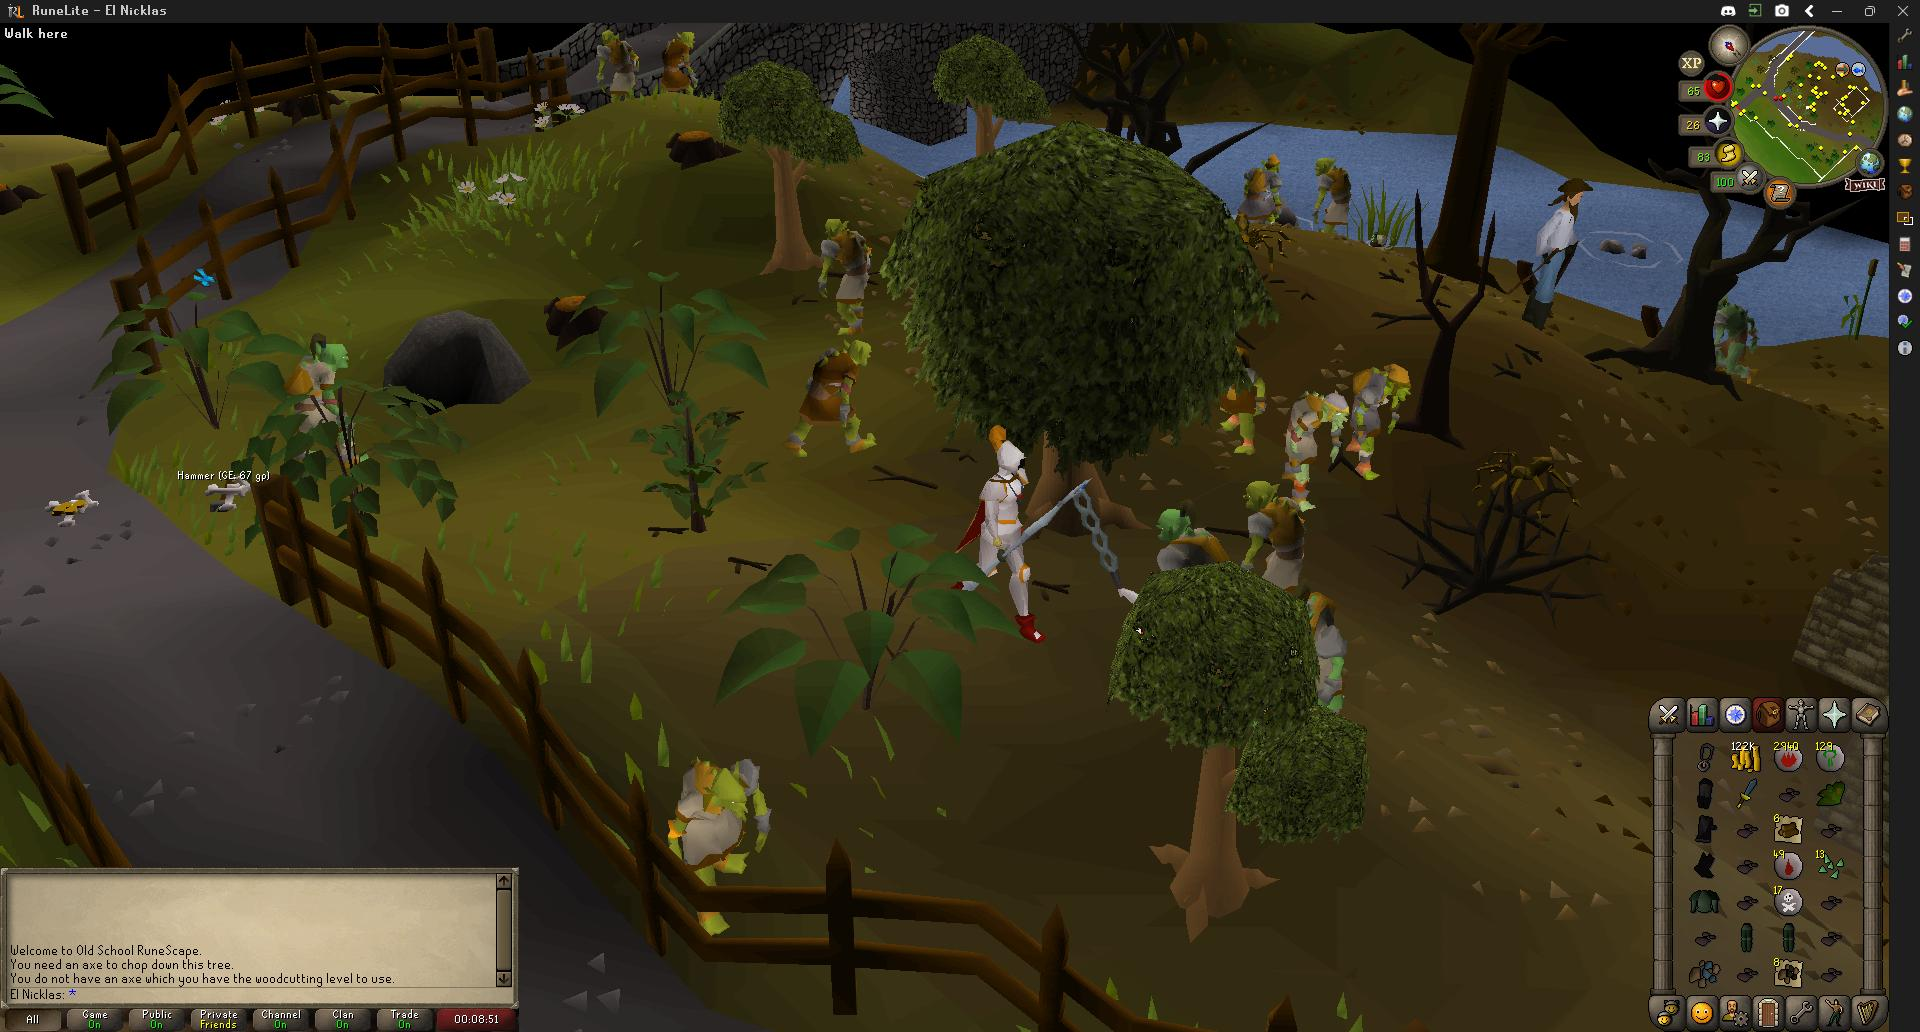Player: (957, 428, 1064, 649)
goblin: (652, 751, 751, 929), (784, 343, 872, 460), (285, 331, 352, 446), (814, 215, 869, 339), (1348, 363, 1408, 472), (1241, 483, 1303, 587), (1154, 502, 1231, 578), (1215, 348, 1267, 452), (1278, 392, 1331, 489), (1713, 298, 1760, 385), (1239, 153, 1288, 234), (1304, 591, 1345, 681), (1314, 157, 1353, 242), (599, 28, 639, 104), (660, 32, 697, 100)
